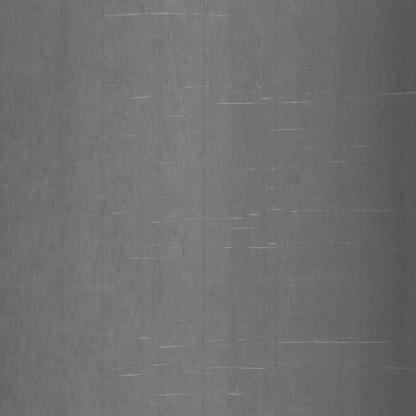waist_folding: (76, 30, 376, 372)
